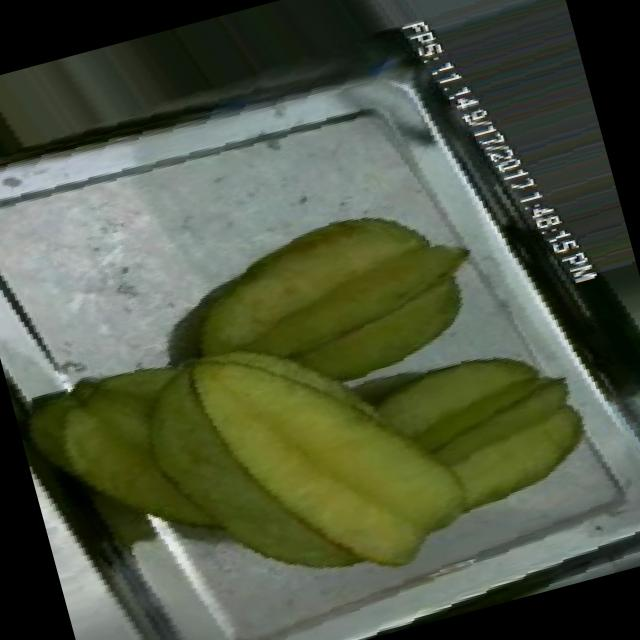fruit: (130, 138, 524, 464), (122, 270, 466, 640), (328, 287, 626, 575), (0, 21, 223, 176)
